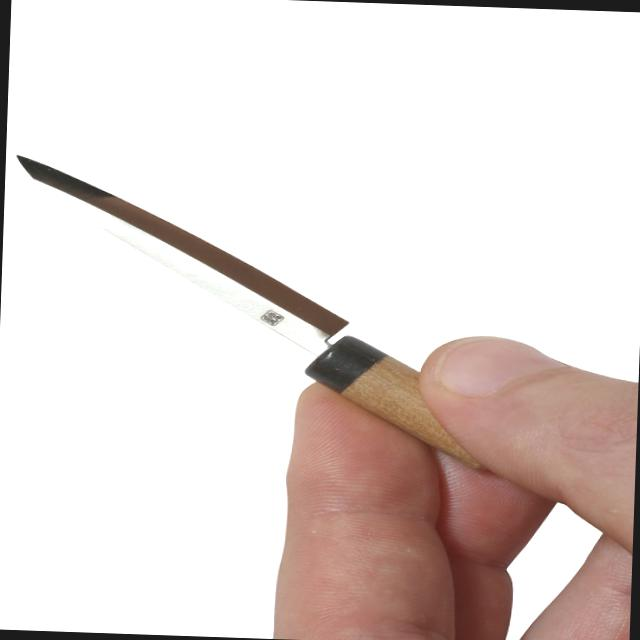knife: (0, 148, 518, 466)
